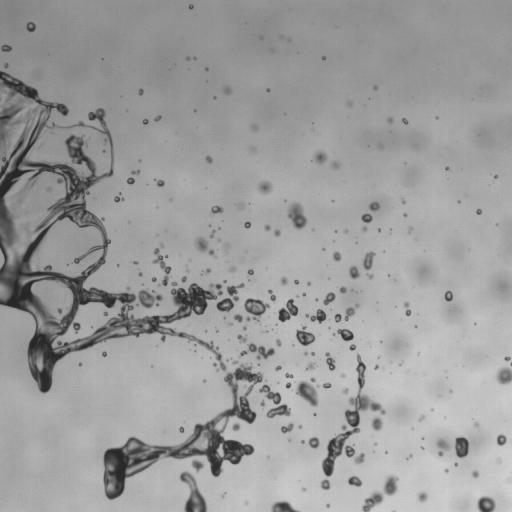droplet: (291, 377, 319, 406), (273, 298, 299, 323), (287, 202, 307, 229), (294, 323, 316, 346), (304, 309, 330, 323), (454, 435, 469, 458), (332, 327, 353, 341), (476, 496, 495, 511), (436, 438, 450, 457), (300, 436, 320, 449), (310, 149, 327, 164), (362, 251, 375, 270), (257, 180, 272, 194), (371, 416, 383, 431), (347, 475, 362, 487), (348, 266, 360, 279), (323, 292, 335, 305), (209, 205, 223, 216), (280, 422, 293, 433), (496, 434, 507, 446), (417, 491, 428, 502), (7, 67, 18, 78), (23, 76, 34, 87), (279, 203, 290, 214), (251, 220, 262, 231), (187, 244, 198, 255), (339, 258, 350, 269), (168, 270, 179, 281), (343, 276, 354, 287), (144, 281, 155, 292), (105, 283, 116, 294), (160, 286, 171, 297), (236, 288, 247, 299), (162, 292, 173, 303), (275, 297, 286, 308), (233, 301, 244, 312), (166, 302, 177, 313), (324, 305, 335, 316), (134, 306, 145, 317), (287, 315, 298, 326), (171, 319, 182, 330), (306, 321, 317, 332), (91, 342, 102, 353), (245, 352, 256, 363), (53, 359, 64, 370), (487, 367, 498, 378), (363, 368, 374, 379), (324, 370, 335, 381), (298, 371, 309, 382), (262, 373, 273, 384), (28, 379, 39, 390), (331, 379, 342, 390), (314, 387, 325, 398), (367, 391, 378, 402), (358, 409, 369, 420), (276, 414, 287, 425), (330, 426, 341, 437), (222, 429, 233, 440), (144, 435, 155, 446), (172, 435, 183, 446), (112, 437, 123, 448), (317, 446, 328, 457), (157, 454, 168, 465), (333, 454, 344, 465), (181, 456, 192, 467), (94, 462, 105, 473), (350, 465, 361, 476), (192, 469, 203, 480), (179, 488, 190, 499), (368, 201, 380, 211), (305, 361, 317, 371), (361, 213, 372, 223), (329, 160, 341, 169), (222, 242, 231, 254), (222, 85, 232, 95), (114, 192, 124, 202), (444, 290, 453, 301), (153, 178, 165, 186), (26, 21, 35, 31), (332, 251, 341, 261), (231, 422, 241, 431), (234, 201, 245, 209), (0, 44, 12, 51), (51, 95, 60, 104), (306, 149, 315, 158), (322, 158, 331, 167), (311, 161, 320, 170), (260, 172, 269, 181), (257, 173, 266, 182), (250, 181, 259, 190), (270, 181, 279, 190), (264, 191, 273, 200), (261, 192, 270, 201), (301, 208, 310, 217), (206, 239, 215, 248), (155, 269, 164, 278), (81, 280, 90, 289), (181, 281, 190, 290), (297, 282, 306, 291), (130, 286, 139, 295), (261, 294, 270, 303), (206, 298, 215, 307), (9, 306, 18, 315), (146, 307, 155, 316), (325, 310, 334, 319), (216, 320, 225, 329), (338, 320, 347, 329), (151, 331, 160, 340), (226, 363, 235, 372), (489, 375, 498, 384), (315, 376, 324, 385), (360, 386, 369, 395), (299, 397, 308, 406), (265, 399, 274, 408), (248, 401, 257, 410), (229, 414, 238, 423), (185, 426, 194, 435), (319, 438, 328, 447), (447, 446, 456, 455), (198, 454, 207, 463), (220, 459, 229, 468), (202, 460, 211, 469), (375, 484, 384, 493), (381, 493, 390, 502), (273, 228, 281, 237), (227, 265, 236, 273), (280, 276, 288, 285), (334, 313, 341, 323), (505, 431, 511, 442), (505, 436, 511, 447), (261, 505, 272, 511), (369, 505, 380, 511), (250, 123, 258, 131), (126, 177, 134, 185), (471, 470, 479, 478), (322, 382, 331, 389), (130, 169, 140, 175), (346, 100, 353, 108), (386, 117, 394, 124), (205, 155, 212, 163), (244, 221, 251, 229), (264, 224, 272, 231), (273, 364, 281, 371), (418, 414, 425, 422), (0, 50, 5, 61), (0, 284, 5, 295), (275, 338, 281, 347), (285, 372, 294, 378), (249, 146, 256, 153), (180, 276, 187, 283), (339, 286, 346, 293), (349, 344, 356, 351), (178, 426, 185, 433), (216, 90, 223, 97), (36, 91, 43, 98), (50, 107, 57, 114), (82, 116, 89, 123), (92, 118, 99, 125), (105, 122, 112, 129), (87, 185, 94, 192), (400, 205, 407, 212), (286, 218, 293, 225), (302, 223, 309, 230), (202, 233, 209, 240), (158, 248, 165, 255), (201, 250, 208, 257), (339, 251, 346, 258), (371, 256, 378, 263), (163, 258, 170, 265), (231, 259, 238, 266), (357, 265, 364, 272), (286, 277, 293, 284), (299, 278, 306, 285), (226, 279, 233, 286), (176, 281, 183, 288), (165, 283, 172, 290), (201, 283, 208, 290), (220, 285, 227, 292), (333, 289, 340, 296), (221, 291, 228, 298), (318, 293, 325, 300), (216, 294, 223, 301), (321, 304, 328, 311), (229, 307, 236, 314), (241, 310, 248, 317), (184, 327, 191, 334), (27, 330, 34, 337), (139, 332, 146, 339), (202, 335, 209, 342), (22, 341, 29, 348), (294, 341, 301, 348), (241, 343, 248, 350), (305, 343, 312, 350), (198, 344, 205, 351), (84, 346, 91, 353), (204, 349, 211, 356), (64, 352, 71, 359), (502, 360, 509, 367), (278, 368, 285, 375), (307, 369, 314, 376), (219, 370, 226, 377), (351, 371, 358, 378), (255, 381, 262, 388), (49, 383, 56, 390), (290, 383, 297, 390), (224, 385, 231, 392), (270, 385, 277, 392), (259, 391, 266, 398), (342, 393, 349, 400), (226, 401, 233, 408), (380, 402, 387, 409), (348, 404, 355, 411), (309, 405, 316, 412), (357, 409, 364, 416), (373, 409, 380, 416), (423, 409, 430, 416), (379, 414, 386, 421), (199, 418, 206, 425), (238, 418, 245, 425), (380, 422, 387, 429), (373, 429, 380, 436), (138, 434, 145, 441), (239, 437, 246, 444), (343, 438, 350, 445), (158, 439, 165, 446), (449, 439, 456, 446), (467, 443, 474, 450), (353, 449, 360, 456), (97, 451, 104, 458), (240, 454, 247, 461), (456, 456, 463, 463), (188, 466, 195, 473), (319, 472, 326, 479), (123, 476, 130, 483), (97, 479, 104, 486), (394, 480, 401, 487), (415, 486, 422, 493), (424, 487, 431, 494), (199, 489, 206, 496), (392, 490, 399, 497), (480, 490, 487, 497), (364, 491, 371, 498), (411, 493, 418, 500), (114, 495, 121, 502), (277, 495, 284, 502), (425, 495, 432, 502), (289, 501, 296, 508), (153, 115, 161, 121), (506, 380, 511, 389), (176, 506, 185, 511), (402, 117, 408, 124), (366, 273, 373, 279), (398, 359, 404, 366), (284, 382, 291, 388), (342, 387, 348, 394), (408, 226, 413, 234), (142, 118, 148, 124), (378, 143, 384, 149), (476, 208, 482, 214), (361, 226, 367, 232), (340, 372, 346, 378), (473, 421, 479, 427), (138, 88, 143, 95), (102, 350, 107, 357), (496, 457, 501, 464), (3, 62, 8, 68), (372, 85, 378, 90), (102, 311, 108, 316), (324, 503, 330, 508), (205, 507, 212, 511), (325, 507, 332, 511), (356, 507, 363, 511), (473, 507, 480, 511), (491, 507, 498, 511), (188, 4, 193, 9), (279, 34, 284, 39), (151, 277, 156, 282), (294, 279, 299, 284), (302, 292, 307, 297), (420, 446, 425, 451), (444, 468, 449, 473), (301, 486, 306, 491), (244, 500, 249, 505), (34, 25, 39, 30), (30, 30, 35, 35), (5, 40, 10, 45), (3, 50, 8, 55), (189, 58, 194, 63), (1, 67, 6, 72), (133, 88, 138, 93), (57, 98, 62, 103), (64, 102, 69, 107), (97, 103, 102, 108), (90, 107, 95, 112), (66, 111, 71, 116), (152, 112, 157, 117), (388, 112, 393, 117), (102, 115, 107, 120), (382, 115, 387, 120), (405, 115, 410, 120), (147, 117, 152, 122), (73, 118, 78, 123), (382, 119, 387, 124), (45, 120, 50, 125), (109, 130, 114, 135), (111, 137, 116, 142), (209, 153, 214, 158), (113, 156, 118, 161), (202, 159, 207, 164), (132, 165, 137, 170), (112, 168, 117, 173), (131, 173, 136, 178), (103, 176, 108, 181), (163, 181, 168, 186), (109, 195, 114, 200), (367, 198, 372, 203), (378, 201, 383, 206), (84, 205, 89, 210), (480, 207, 485, 212), (367, 209, 372, 214), (215, 211, 220, 216), (96, 213, 101, 218), (244, 216, 249, 221), (264, 219, 269, 224), (101, 220, 106, 225), (362, 221, 367, 226), (212, 224, 217, 229), (259, 225, 264, 230), (206, 227, 211, 232), (269, 227, 274, 232), (279, 231, 284, 236), (213, 232, 218, 237), (106, 234, 111, 239), (273, 235, 278, 240), (154, 242, 159, 247), (149, 247, 154, 252), (365, 247, 370, 252), (213, 249, 218, 254), (152, 254, 157, 259), (207, 254, 212, 259), (328, 254, 333, 259), (103, 255, 108, 260), (331, 259, 336, 264), (154, 262, 159, 267), (99, 263, 104, 268), (224, 263, 229, 268), (187, 264, 192, 269), (367, 268, 372, 273), (169, 269, 174, 274), (180, 271, 185, 276), (149, 272, 154, 277), (345, 272, 350, 277), (248, 274, 253, 279), (372, 274, 377, 279), (354, 276, 359, 281), (368, 278, 373, 283), (166, 279, 171, 284), (212, 279, 217, 284), (217, 279, 222, 284), (243, 280, 248, 285), (337, 282, 342, 287), (96, 284, 101, 289), (174, 284, 179, 289), (141, 285, 146, 290), (345, 286, 350, 291), (146, 288, 151, 293), (127, 289, 132, 294), (133, 291, 138, 296), (251, 294, 256, 299), (403, 296, 408, 301), (292, 300, 297, 305), (327, 301, 332, 306), (349, 302, 354, 307), (401, 306, 406, 311), (264, 307, 269, 312), (354, 307, 359, 312), (221, 310, 226, 315), (190, 311, 195, 316), (260, 312, 265, 317), (274, 312, 279, 317), (340, 312, 345, 317), (198, 313, 203, 318), (289, 314, 294, 319), (348, 315, 353, 320), (241, 317, 246, 322), (305, 317, 310, 322), (249, 318, 254, 323), (284, 318, 289, 323), (233, 319, 238, 324), (276, 319, 281, 324), (313, 319, 318, 324), (321, 319, 326, 324), (162, 322, 167, 327), (348, 326, 353, 331), (304, 327, 309, 332), (239, 330, 244, 335), (312, 331, 317, 336), (352, 332, 357, 337), (275, 333, 280, 338), (336, 333, 341, 338), (130, 334, 135, 339), (164, 334, 169, 339), (175, 335, 180, 340), (113, 336, 118, 341), (110, 337, 115, 342), (182, 337, 187, 342), (279, 337, 284, 342), (246, 338, 251, 343), (293, 338, 298, 343), (347, 339, 352, 344), (160, 341, 165, 346), (212, 341, 217, 346), (254, 342, 259, 347), (217, 348, 222, 353), (351, 349, 356, 354), (253, 350, 258, 355), (210, 352, 215, 357), (329, 353, 334, 358), (267, 354, 272, 359), (360, 357, 365, 362), (214, 359, 219, 364), (375, 359, 380, 364), (353, 360, 358, 365), (393, 360, 398, 365), (333, 361, 338, 366), (302, 362, 307, 367), (323, 363, 328, 368), (210, 365, 215, 370), (286, 377, 291, 382), (322, 378, 327, 383), (222, 380, 227, 385), (265, 380, 270, 385), (353, 380, 358, 385), (310, 381, 315, 386), (362, 383, 367, 388), (39, 391, 44, 396), (278, 400, 283, 405), (414, 413, 419, 418), (253, 417, 258, 422), (342, 419, 347, 424), (356, 423, 361, 428), (292, 424, 297, 429), (473, 426, 478, 431), (285, 430, 290, 435), (501, 430, 506, 435), (128, 432, 133, 437), (309, 432, 314, 437), (456, 432, 461, 437), (328, 434, 333, 439), (464, 434, 469, 439), (492, 438, 497, 443), (303, 440, 308, 445), (420, 440, 425, 445), (504, 440, 509, 445), (501, 443, 506, 448), (372, 445, 377, 450), (435, 446, 440, 451), (311, 447, 316, 452), (168, 455, 173, 460), (362, 455, 367, 460), (462, 455, 467, 460), (359, 461, 364, 466), (235, 462, 240, 467), (472, 465, 477, 470), (142, 468, 147, 473), (477, 469, 482, 474), (441, 471, 446, 476), (134, 472, 139, 477), (175, 472, 180, 477), (218, 472, 223, 477), (467, 472, 472, 477), (346, 473, 351, 478), (98, 475, 103, 480), (326, 475, 331, 480), (358, 475, 363, 480), (470, 476, 475, 481), (474, 476, 479, 481), (316, 481, 321, 486), (360, 482, 365, 487), (350, 483, 355, 488), (322, 488, 327, 493), (102, 495, 107, 500), (401, 198, 405, 204), (507, 477, 511, 483), (187, 0, 194, 3), (0, 64, 3, 71), (0, 252, 3, 259), (0, 259, 3, 266), (0, 303, 3, 310), (185, 56, 190, 60), (204, 67, 209, 71), (445, 166, 450, 170), (493, 174, 498, 178), (343, 229, 348, 233), (138, 271, 142, 276), (202, 378, 206, 383), (298, 424, 302, 429), (322, 56, 326, 60), (266, 88, 270, 92), (168, 198, 172, 202), (403, 213, 407, 217), (377, 228, 381, 232), (217, 238, 221, 242), (307, 281, 311, 285), (78, 362, 82, 366), (454, 462, 458, 466), (286, 38, 291, 41), (275, 381, 280, 384), (508, 352, 511, 357), (193, 56, 196, 60), (435, 116, 439, 119), (457, 200, 461, 203), (322, 247, 325, 251), (414, 324, 417, 328), (417, 352, 420, 356), (257, 362, 260, 366), (449, 389, 452, 393), (430, 408, 434, 411), (313, 412, 316, 416), (288, 438, 291, 442), (385, 450, 388, 454), (0, 41, 2, 46), (0, 250, 2, 255), (260, 36, 263, 39), (213, 96, 216, 99), (193, 109, 196, 112), (138, 159, 141, 162), (331, 199, 334, 202), (156, 206, 159, 209), (128, 220, 131, 223), (495, 223, 498, 226), (208, 224, 211, 227), (334, 230, 337, 233), (156, 233, 159, 236), (382, 250, 385, 253), (116, 264, 119, 267), (387, 273, 390, 276), (393, 278, 396, 281), (223, 280, 226, 283), (315, 298, 318, 301), (90, 325, 93, 328), (411, 427, 414, 430), (421, 436, 424, 439), (374, 442, 377, 445), (373, 450, 376, 453), (185, 4, 188, 7), (192, 6, 195, 9), (189, 8, 192, 11), (32, 20, 35, 23), (322, 52, 325, 55), (195, 54, 198, 57), (189, 55, 192, 58), (103, 57, 106, 60), (318, 57, 321, 60), (325, 57, 328, 60), (321, 59, 324, 62), (7, 61, 10, 64), (205, 64, 208, 67), (208, 68, 211, 71), (204, 70, 207, 73), (263, 87, 266, 90), (269, 87, 272, 90), (372, 89, 375, 92), (142, 91, 145, 94), (265, 91, 268, 94), (212, 92, 215, 95), (209, 95, 212, 98), (214, 98, 217, 101), (194, 111, 197, 114), (158, 112, 161, 115), (436, 113, 439, 116), (141, 116, 144, 119), (432, 116, 435, 119), (159, 118, 162, 121), (435, 119, 438, 122), (308, 121, 311, 124), (400, 121, 403, 124), (146, 122, 149, 125), (406, 123, 409, 126), (441, 166, 444, 169), (448, 166, 451, 169), (445, 169, 448, 172), (139, 170, 142, 173), (491, 173, 494, 176), (151, 175, 154, 178), (155, 177, 158, 180), (493, 178, 496, 181), (127, 183, 130, 186), (130, 183, 133, 186), (159, 185, 162, 188), (118, 195, 121, 198), (331, 196, 334, 199), (457, 196, 460, 199), (403, 197, 406, 200), (280, 198, 283, 201), (118, 199, 121, 202), (398, 199, 401, 202), (460, 199, 463, 202), (244, 200, 247, 203), (331, 202, 334, 205), (404, 202, 407, 205), (458, 202, 461, 205), (217, 203, 220, 206), (245, 203, 248, 206), (476, 205, 479, 208), (208, 208, 211, 211), (473, 208, 476, 211), (404, 210, 407, 213), (400, 211, 403, 214), (475, 213, 478, 216), (401, 215, 404, 218), (241, 221, 244, 224), (205, 222, 208, 225), (218, 223, 221, 226), (249, 224, 252, 227), (220, 226, 223, 229), (391, 227, 394, 230), (374, 228, 377, 231), (380, 228, 383, 231), (387, 229, 390, 232), (331, 230, 334, 233), (336, 230, 339, 233), (410, 230, 413, 233), (355, 238, 358, 241), (107, 243, 110, 246), (355, 243, 358, 246), (324, 246, 327, 249), (372, 249, 375, 252), (321, 250, 324, 253), (167, 253, 170, 256), (134, 258, 137, 261), (116, 260, 119, 263), (132, 263, 135, 266), (136, 263, 139, 266), (113, 264, 116, 267), (206, 265, 209, 268), (248, 266, 251, 269), (202, 267, 205, 270), (245, 267, 248, 270), (210, 268, 213, 271), (252, 268, 255, 271), (198, 270, 201, 273), (135, 271, 138, 274), (208, 271, 211, 274), (141, 272, 144, 275), (389, 272, 392, 275), (384, 274, 387, 277), (138, 275, 141, 278), (223, 276, 226, 279), (310, 281, 313, 284), (293, 283, 296, 286), (296, 283, 299, 286), (268, 286, 271, 289), (302, 289, 305, 292), (351, 290, 354, 293), (451, 291, 454, 294), (299, 294, 302, 297), (441, 294, 444, 297), (287, 296, 290, 299), (442, 297, 445, 300), (451, 297, 454, 300), (446, 300, 449, 303), (407, 306, 410, 309), (410, 311, 413, 314), (475, 320, 478, 323), (470, 322, 473, 325), (416, 323, 419, 326), (475, 323, 478, 326), (265, 326, 268, 329), (413, 327, 416, 330), (218, 328, 221, 331), (212, 329, 215, 332), (268, 329, 271, 332), (216, 331, 219, 334), (264, 332, 267, 335), (314, 336, 317, 339), (379, 337, 382, 340), (376, 340, 379, 343), (280, 341, 283, 344), (314, 351, 317, 354), (307, 352, 310, 355), (419, 352, 422, 355), (243, 353, 246, 356), (376, 353, 379, 356), (505, 353, 508, 356), (301, 354, 304, 357), (100, 355, 103, 358), (104, 355, 107, 358), (379, 355, 382, 358), (501, 355, 504, 358), (397, 360, 400, 363), (75, 362, 78, 365), (401, 363, 404, 366), (80, 364, 83, 367), (273, 364, 276, 367), (398, 366, 401, 369), (150, 367, 153, 370), (376, 367, 379, 370), (332, 368, 335, 371), (288, 371, 291, 374), (444, 372, 447, 375), (313, 375, 316, 378), (200, 376, 203, 379), (204, 376, 207, 379), (199, 379, 202, 382), (205, 380, 208, 383), (286, 404, 289, 407), (428, 405, 431, 408), (433, 407, 436, 410), (431, 410, 434, 413), (310, 413, 313, 416), (315, 413, 318, 416), (472, 418, 475, 421), (420, 419, 423, 422), (478, 423, 481, 426), (177, 424, 180, 427), (301, 424, 304, 427), (300, 427, 303, 430), (278, 428, 281, 431), (176, 429, 179, 432), (419, 434, 422, 437), (297, 439, 300, 442), (372, 439, 375, 442), (290, 440, 293, 443), (298, 442, 301, 445), (422, 444, 425, 447), (418, 447, 421, 450), (386, 448, 389, 451), (423, 448, 426, 451), (381, 450, 384, 453), (410, 451, 413, 454), (405, 454, 408, 457), (440, 455, 443, 458), (402, 456, 405, 459), (408, 457, 411, 460), (404, 459, 407, 462), (451, 462, 454, 465), (445, 465, 448, 468), (455, 465, 458, 468), (441, 467, 444, 470), (447, 470, 450, 473), (303, 484, 306, 487), (298, 486, 301, 489), (223, 488, 226, 491), (220, 490, 223, 493), (303, 490, 306, 493), (224, 493, 227, 496), (323, 501, 326, 504), (329, 503, 332, 506), (323, 505, 326, 508), (391, 507, 394, 510), (267, 455, 269, 459), (284, 199, 286, 202), (312, 228, 314, 231), (355, 241, 358, 243), (188, 259, 191, 261), (327, 277, 330, 279), (141, 283, 144, 285), (350, 289, 353, 291), (296, 295, 299, 297), (474, 322, 476, 325), (328, 326, 330, 329), (205, 330, 207, 333), (380, 340, 382, 343), (390, 360, 392, 363), (444, 416, 446, 419), (368, 97, 370, 99), (312, 122, 314, 124), (404, 162, 406, 164), (248, 202, 250, 204), (218, 227, 220, 229), (333, 240, 335, 242), (376, 301, 378, 303), (275, 323, 277, 325), (265, 325, 267, 327), (271, 328, 273, 330), (292, 344, 294, 346), (194, 350, 196, 352), (209, 356, 211, 358), (151, 365, 153, 367), (445, 376, 447, 378), (101, 58, 103, 59), (206, 187, 207, 188), (395, 306, 396, 307)
ligament: (320, 352, 386, 490), (150, 242, 172, 288), (216, 282, 245, 312), (495, 355, 511, 385), (270, 500, 300, 511), (344, 303, 359, 321), (325, 352, 335, 370), (267, 289, 277, 303), (403, 301, 411, 316), (200, 268, 211, 275), (303, 350, 315, 355), (260, 399, 265, 410), (38, 142, 44, 150), (184, 264, 190, 272), (405, 454, 412, 460), (131, 260, 139, 265), (221, 492, 226, 498), (215, 326, 219, 332), (260, 330, 268, 333), (377, 355, 381, 359), (389, 228, 391, 234), (391, 510, 396, 511), (0, 98, 1, 101)
